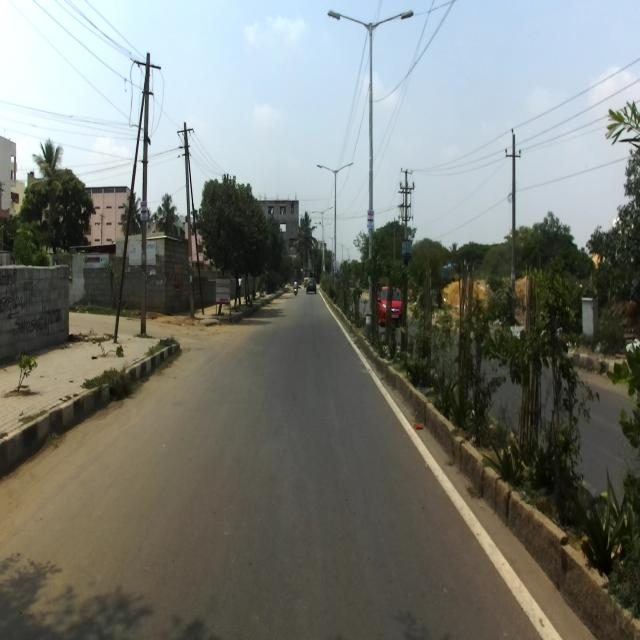Car: (306, 275, 316, 294)
